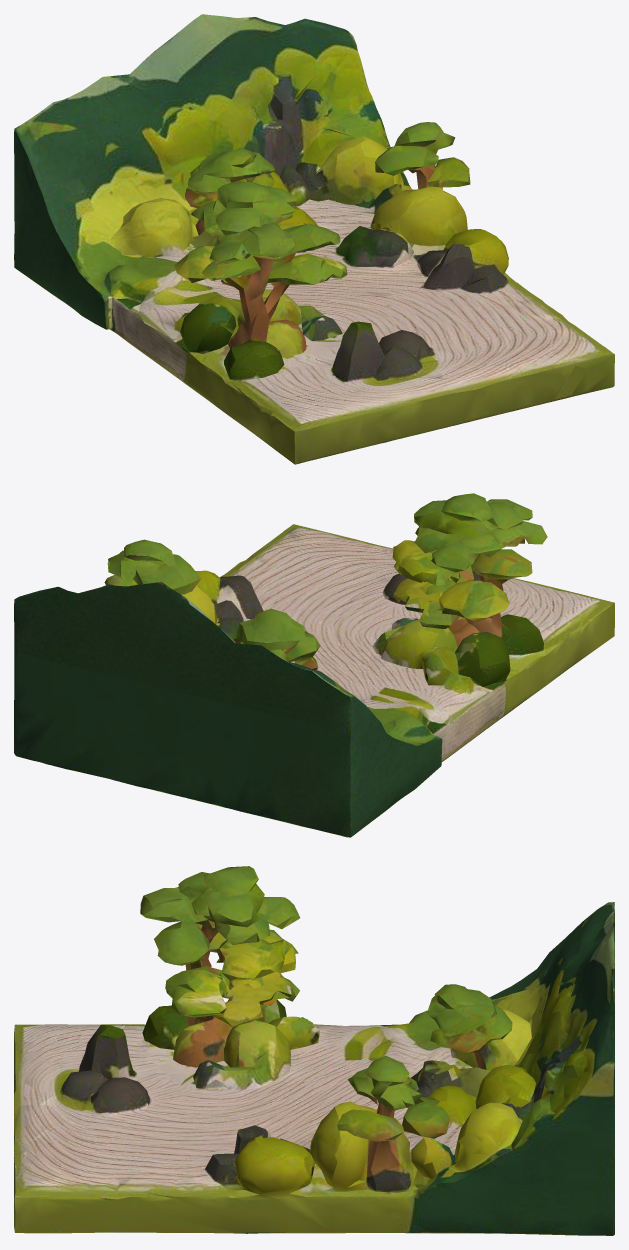
Rendered from adachi-museum.glb.
3 renders of one model, top to bottom at view 1: azimuth 30°, elevation 25°; view 2: azimuth 150°, elevation 25°; view 3: azimuth 270°, elevation 25°, orthographic. The views are drawn at different scales.
Visible parts, largest first — view 1: logan-textured.obj; view 2: logan-textured.obj; view 3: logan-textured.obj.
Part boxes in pixels (box(x1,y1,x2,y2)): logan-textured.obj: box(14, 14, 614, 464); logan-textured.obj: box(14, 493, 614, 837); logan-textured.obj: box(14, 866, 614, 1235).
Size of the model in its own units: 0.7384 by 0.4248 by 1.
Materials: 1 (1 with a texture image).
